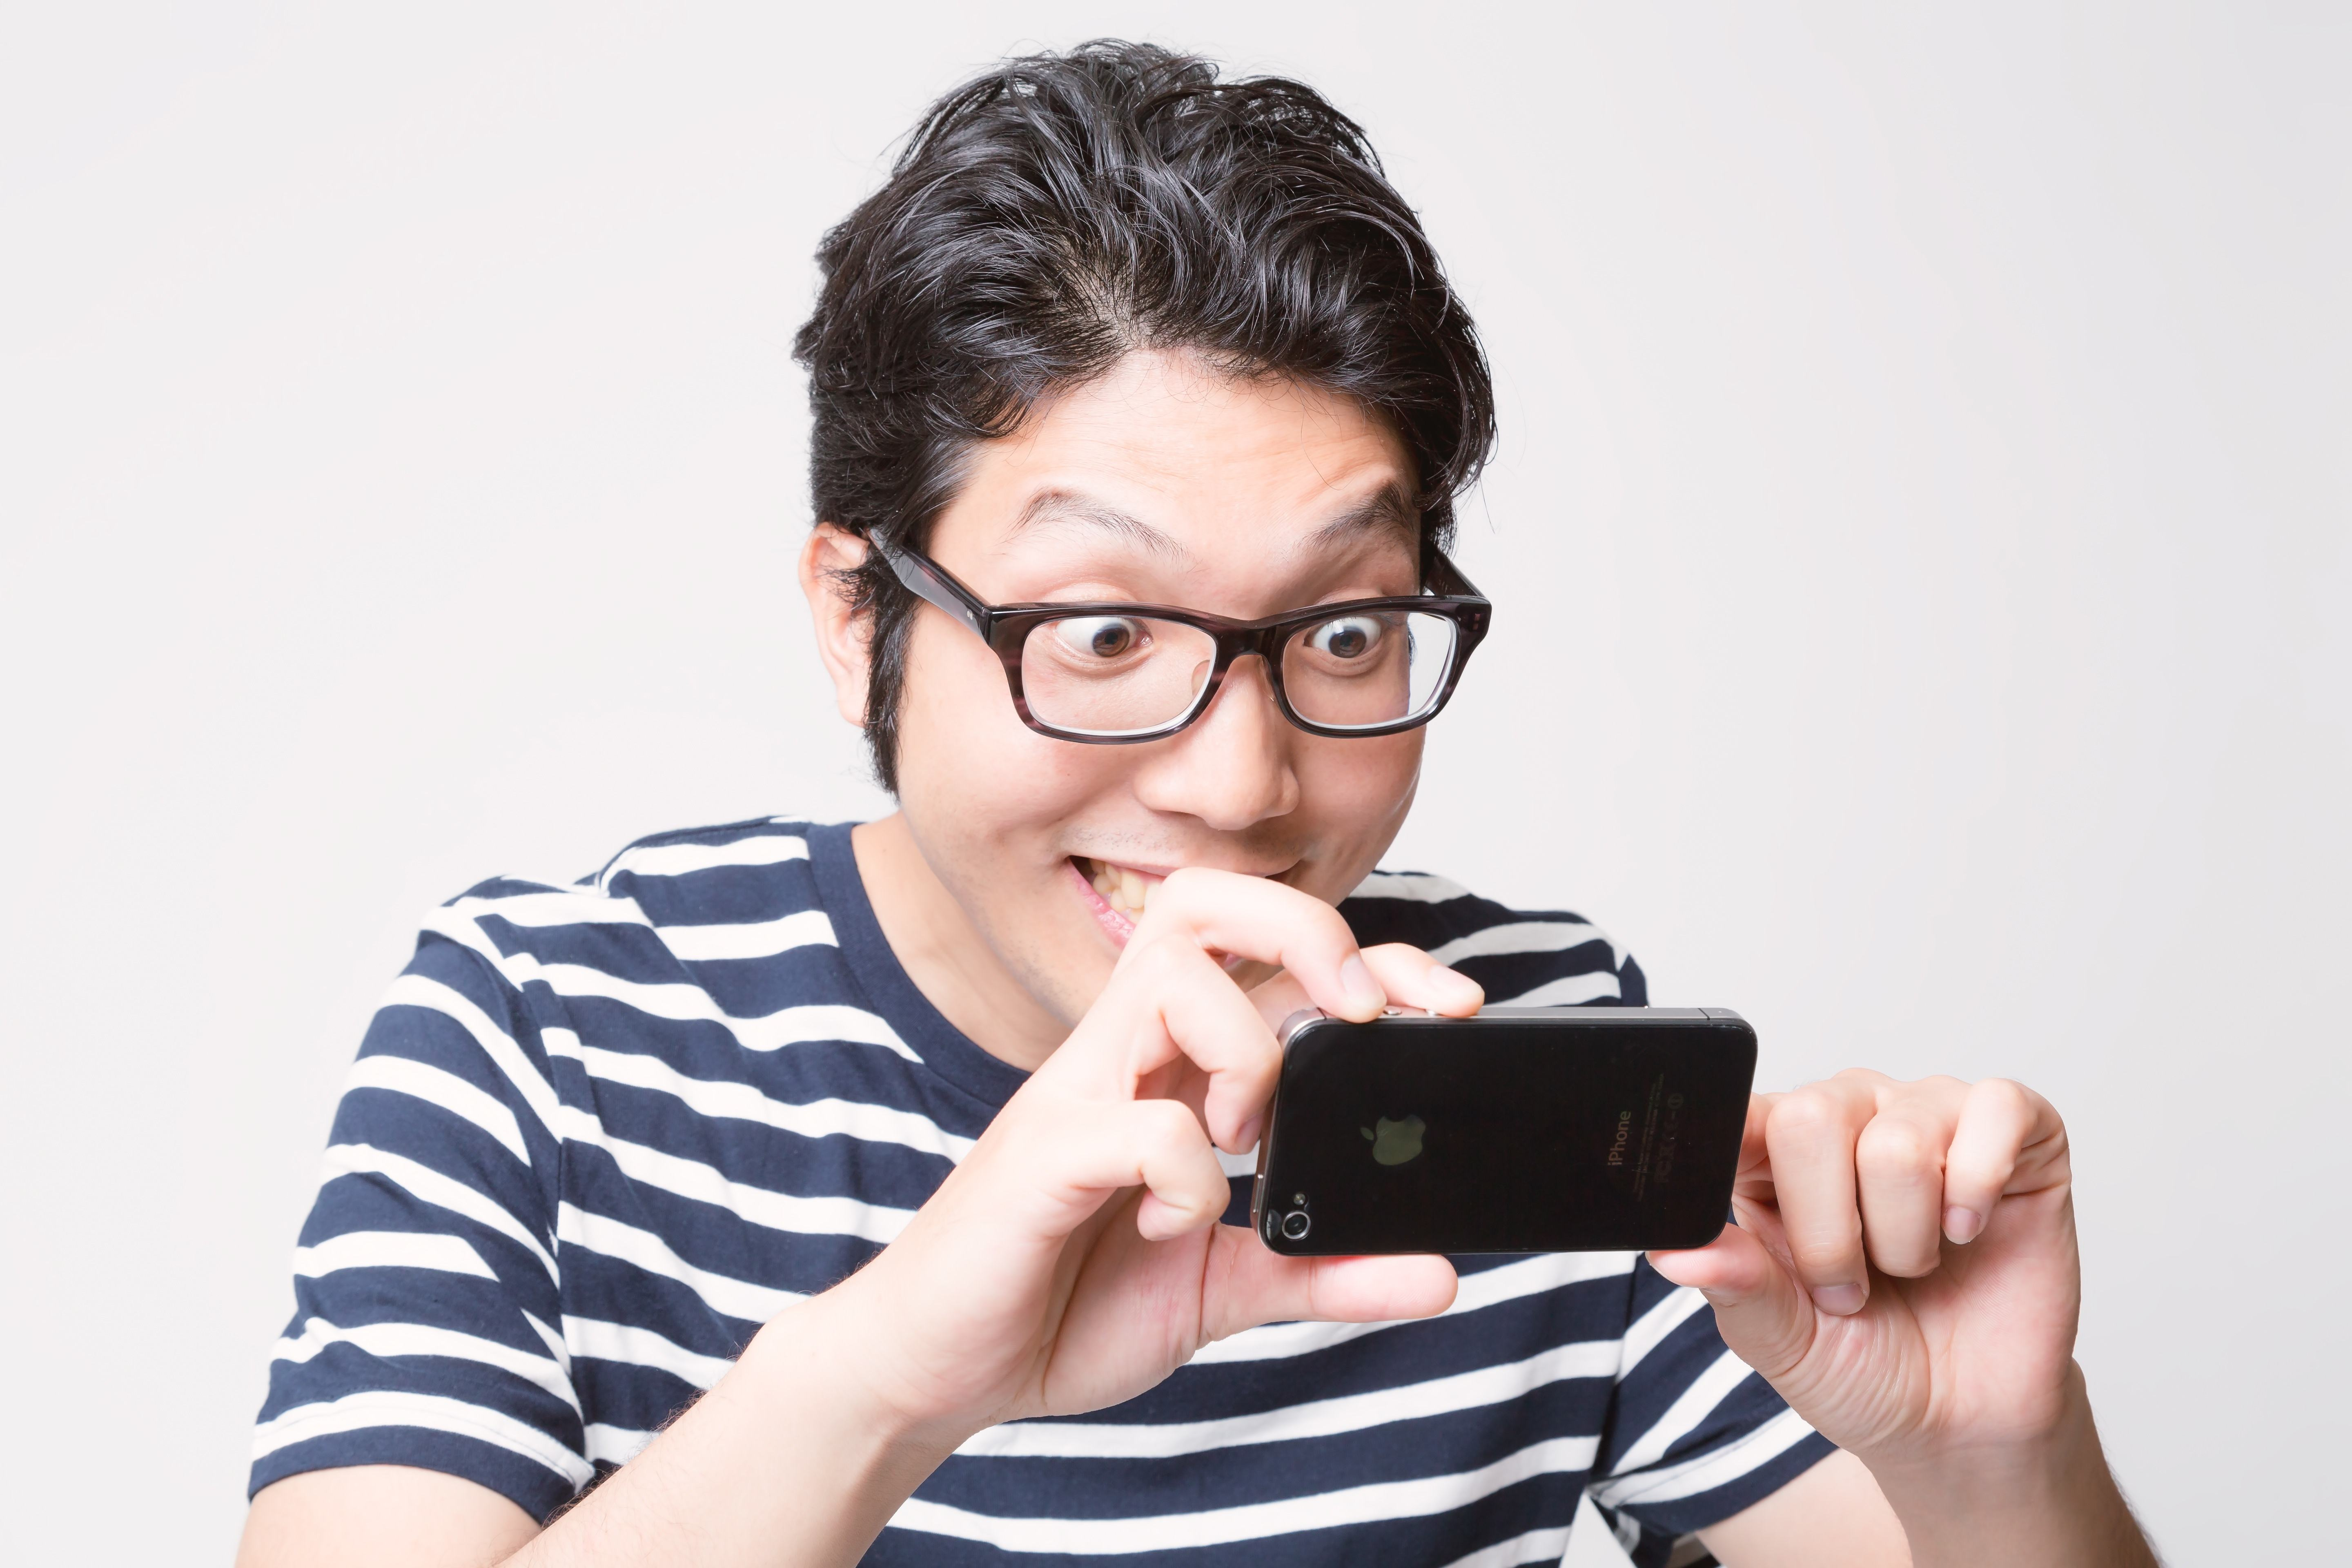taking photos: (850, 845, 2088, 1479)
